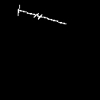treble_crochet: (18, 9, 64, 23)
